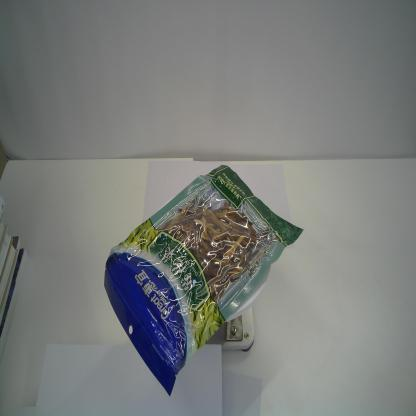Dried Food: (103, 163, 304, 398)
